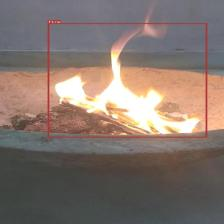fire: (47, 23, 207, 138)
